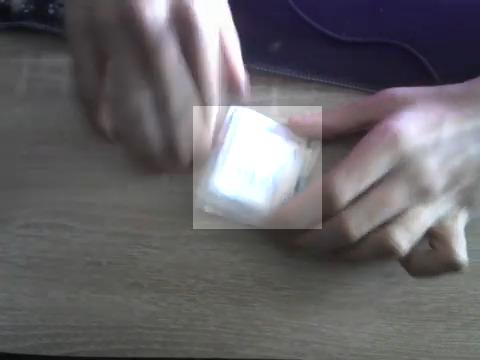20leva: (193, 106, 322, 229)
